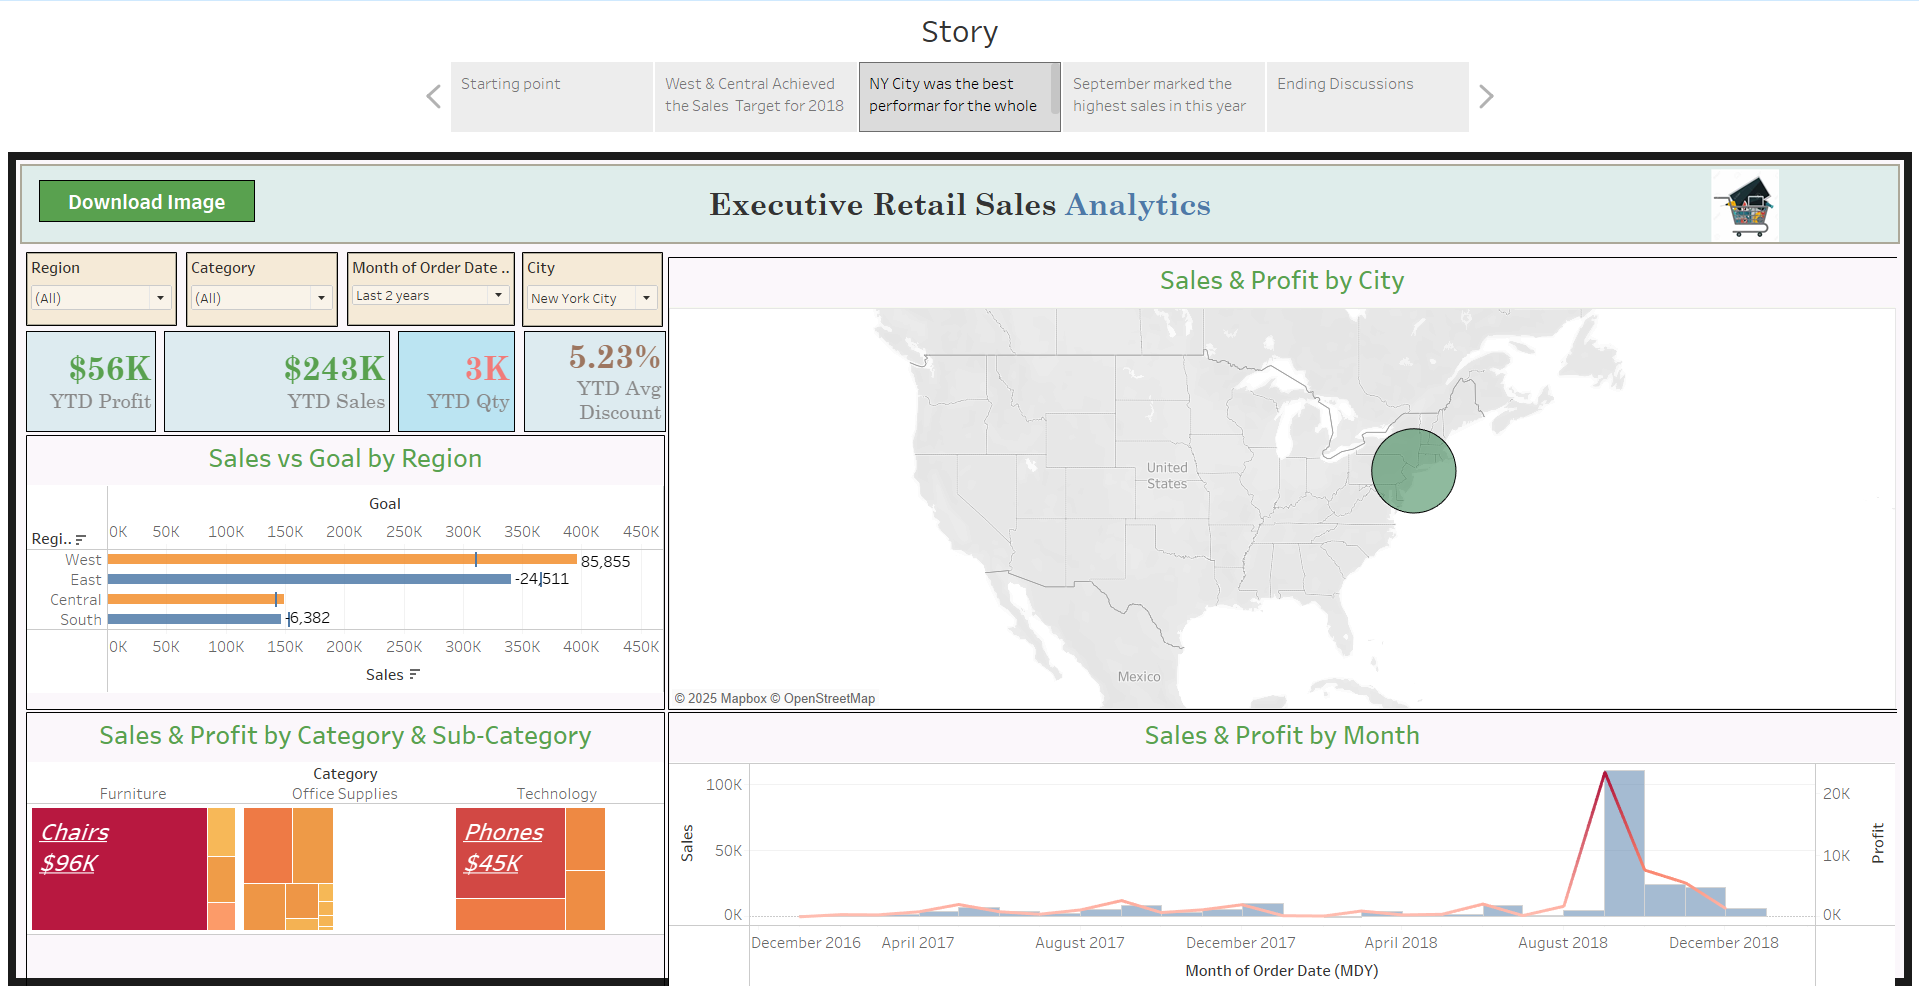

This screenshot's page, from the dashboard's own definition file:
{"tool":"tableau","page":{"name":"Dashboard 1","canvas":[1000,1000],"units":"permille","ordinal":0},"visuals":[{"type":"title","box":[4.8,10,990.3,109.9]},{"type":"image","param":"Image/images.jpeg","box":[867.2,20,90.5,87.4]},{"type":"dashboard-object","box":[16.3,33.7,113.5,49.9]},{"type":"filter","title":"Sheet 2","param":"[federated.0otv4zu1pa6xi91826qd8018jcip].[none:Region:nk]","box":[9.7,119.9,79.1,88.6]},{"type":"filter","title":"Sheet 3","param":"[federated.0otv4zu1pa6xi91826qd8018jcip].[none:Category:nk]","box":[93.5,119.9,79.7,89.9]},{"type":"filter","title":"Sheet 4","param":"[federated.0otv4zu1pa6xi91826qd8018jcip].[tmn:Order Date (MDY):qk]","box":[178,119.9,88.1,88.6]},{"type":"filter","title":"Sheet 5","param":"[federated.0otv4zu1pa6xi91826qd8018jcip].[none:City:nk]","box":[270.1,119.9,74.2,89.9]},{"type":"worksheet","title":"Sheet 5","mark":"Automatic","box":[346.4,126.1,645.8,543.1]},{"type":"worksheet","title":"Sheet 6 (2)","mark":"Automatic","box":[7.2,209.7,83.3,131.1]},{"type":"worksheet","title":"Sheet 6","mark":"Automatic","box":[90.5,209.7,90.5,131.1]},{"type":"worksheet","title":"Sheet 6 (3)","mark":"Automatic","box":[181,209.7,76,131.1]},{"type":"worksheet","title":"Sheet 6 (4)","mark":"Automatic","box":[257.1,209.7,90.5,131.1]},{"type":"worksheet","title":"Sheet 2","mark":"Automatic","rows":["Region"],"cols":["Sales","Goal"],"box":[9.7,339.6,335.6,329.6]},{"type":"worksheet","title":"Sheet 3","mark":"Automatic","cols":["Category"],"box":[9.7,671.7,335.6,333.3]},{"type":"worksheet","title":"Sheet 4","mark":"Automatic","rows":["Sales","Profit"],"cols":["Order Date (MDY)"],"box":[346.4,671.7,645.8,333.3]}]}

Visuals, with their boxes on the dashboard's canvas, which has no fixed pixel size, in thousandths of its width and height (x1, y1, x2, y2). These are canvas units, not pixel positions in the 1919x993 screenshot, which may show the page scaled, cropped or inside an application window:
title: 5 10 995 120
image: 867 20 958 107
dashboard-object: 16 34 130 84
"Sheet 2" filter: 10 120 89 208
"Sheet 3" filter: 94 120 173 210
"Sheet 4" filter: 178 120 266 208
"Sheet 5" filter: 270 120 344 210
"Sheet 5" worksheet: 346 126 992 669
"Sheet 6 (2)" worksheet: 7 210 90 341
"Sheet 6" worksheet: 90 210 181 341
"Sheet 6 (3)" worksheet: 181 210 257 341
"Sheet 6 (4)" worksheet: 257 210 348 341
"Sheet 2" worksheet: 10 340 345 669
"Sheet 3" worksheet: 10 672 345 1005
"Sheet 4" worksheet: 346 672 992 1005
